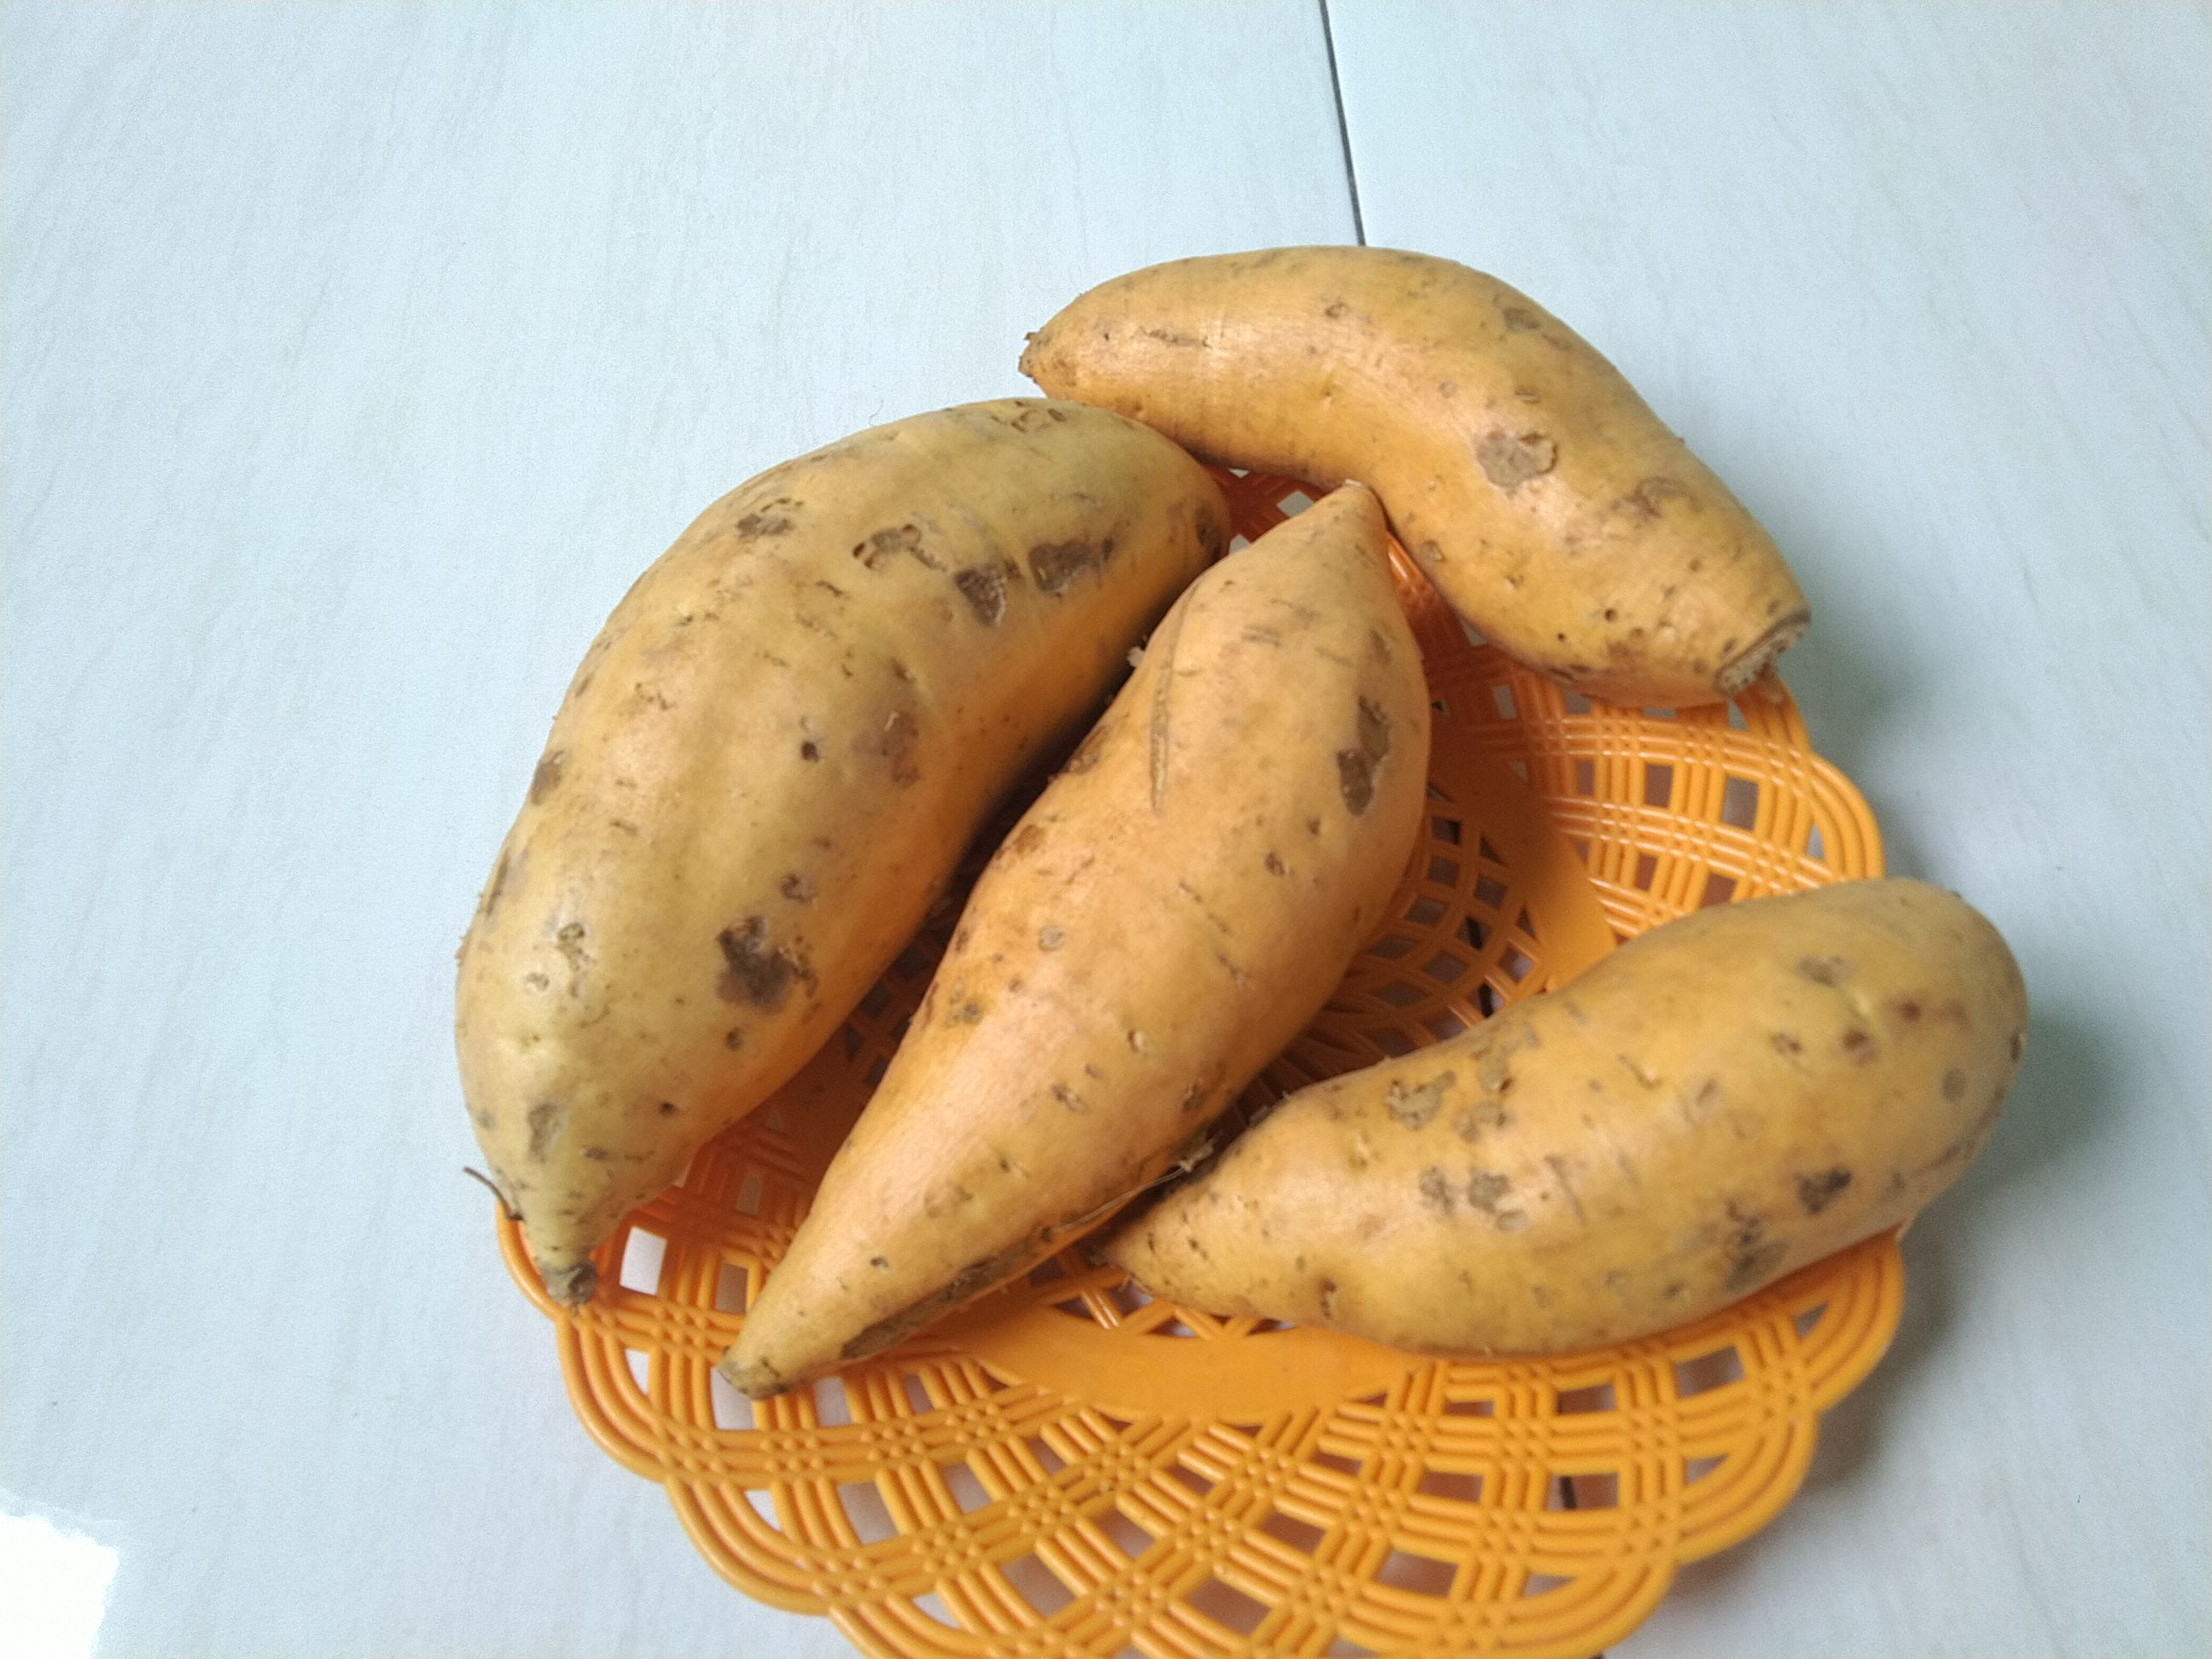ubi cilembu: (448, 399, 1231, 1335), (712, 472, 1470, 1420), (1097, 861, 2055, 1349), (1012, 228, 1844, 714)
